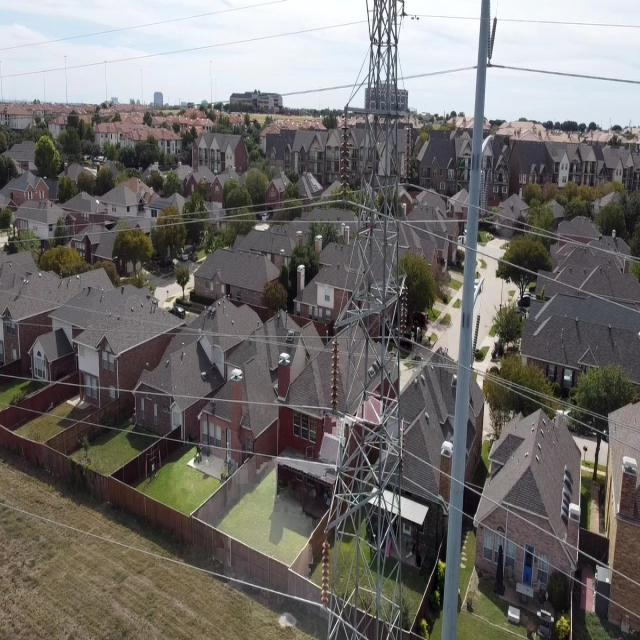杆塔: (312, 1, 422, 640)
正常绝缘子: (339, 101, 353, 206), (319, 524, 333, 614), (328, 331, 342, 420), (401, 110, 414, 187), (398, 270, 410, 342)
